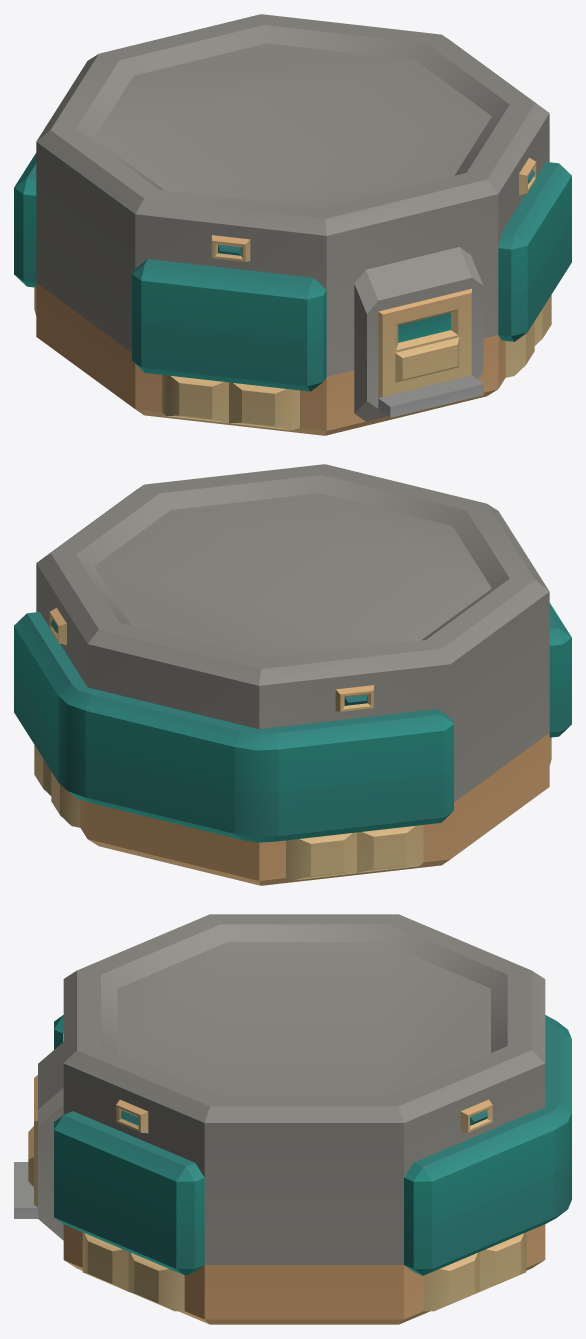
Rendered from cryo_projector.glb.
3 views of the same model, one above another, from view 1: azimuth 30°, elevation 25°; view 2: azimuth 150°, elevation 25°; view 3: azimuth 270°, elevation 25° (orthographic).
Size of the model in its own units: 2.08 by 1 by 2.32.
